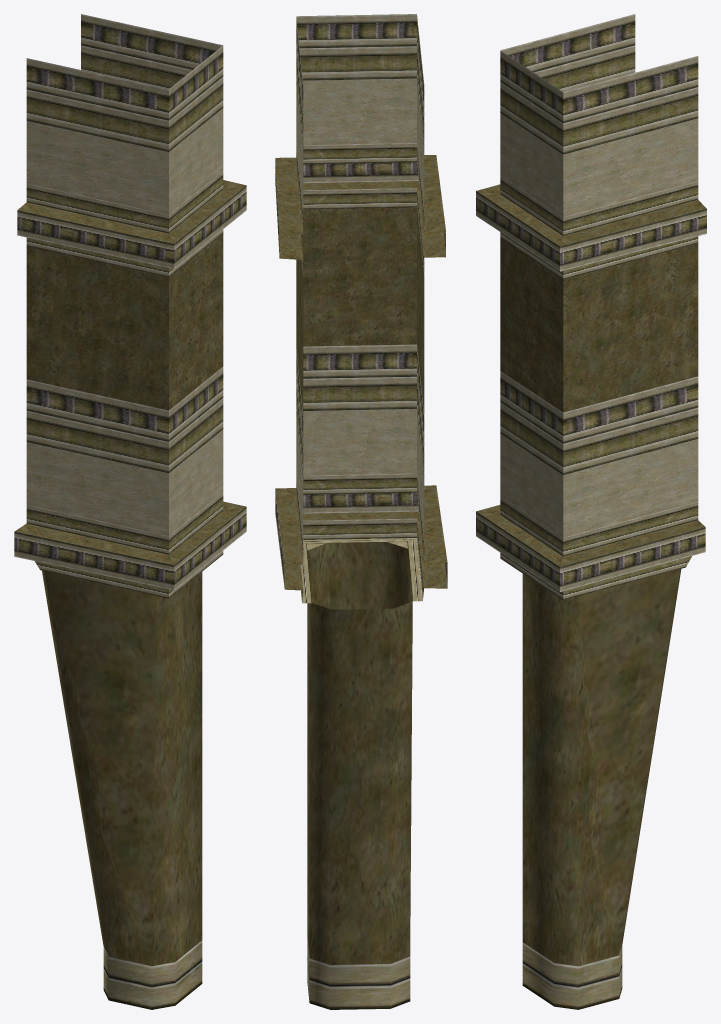
File: CH09_SMAUG_PLAYSURFACE_LAIR63.fbx
3 views of the same model, side by side, from view 1: azimuth 30°, elevation 25°; view 2: azimuth 150°, elevation 25°; view 3: azimuth 270°, elevation 25° (orthographic). The views are drawn at different scales.
Parts seen in each view (by area): view 1: CH09_SMAUG_PLAYSURFACE_LAIR63; view 2: CH09_SMAUG_PLAYSURFACE_LAIR63; view 3: CH09_SMAUG_PLAYSURFACE_LAIR63.
Part boxes in pixels (x1,y1,x2,y2): CH09_SMAUG_PLAYSURFACE_LAIR63: (14, 14, 246, 1009); CH09_SMAUG_PLAYSURFACE_LAIR63: (275, 14, 447, 1009); CH09_SMAUG_PLAYSURFACE_LAIR63: (476, 14, 706, 1009).
Size of the model in its own units: 46468 by 206422 by 46587.
Materials: 5 (5 with a texture image).
